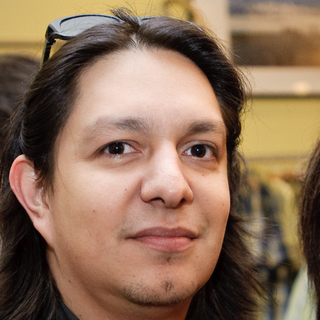eye: (93, 136, 142, 163), (179, 138, 219, 164)
